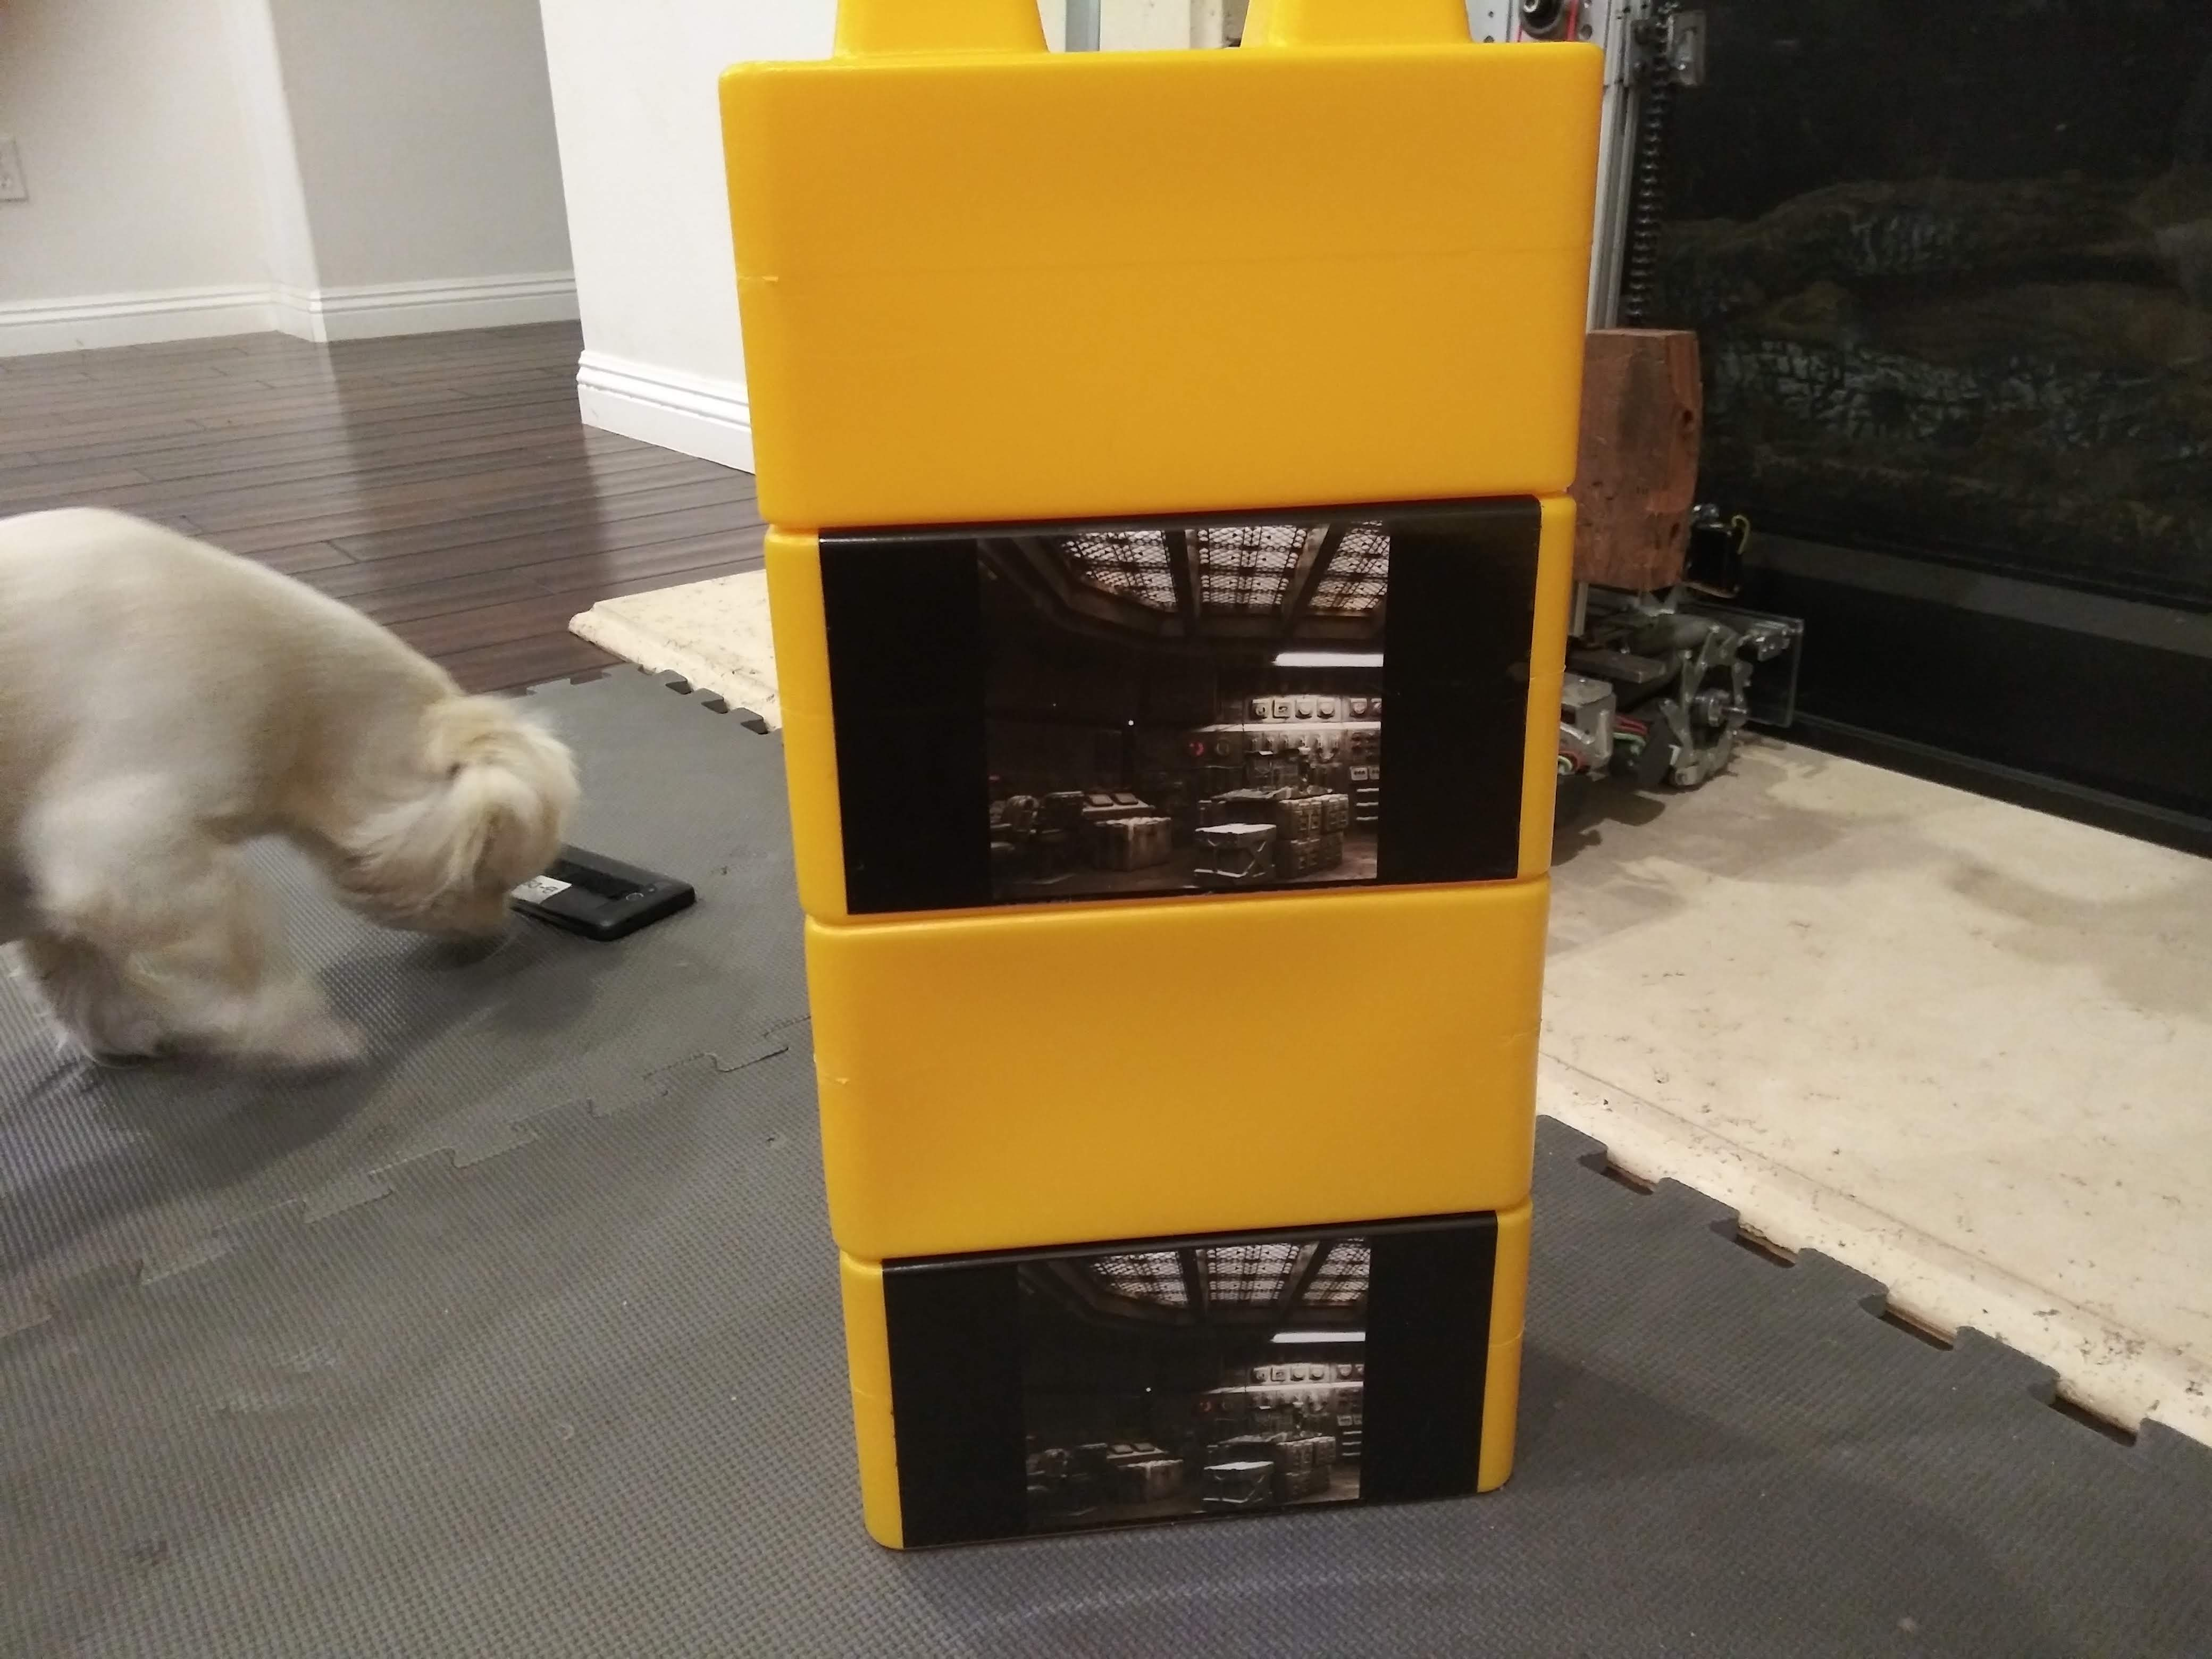skystone: (730, 537, 1592, 877), (787, 1251, 1562, 1561)
stone: (679, 24, 1634, 481), (745, 918, 1569, 1204)
